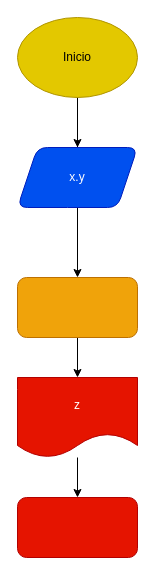
This 155x575 diagram has some shape labels left out. Here are the shapes that lost their labels. From the top down, the centre of each, then its label:
At point 77,307: "z=x^y".
At point 77,527: "Fin".
